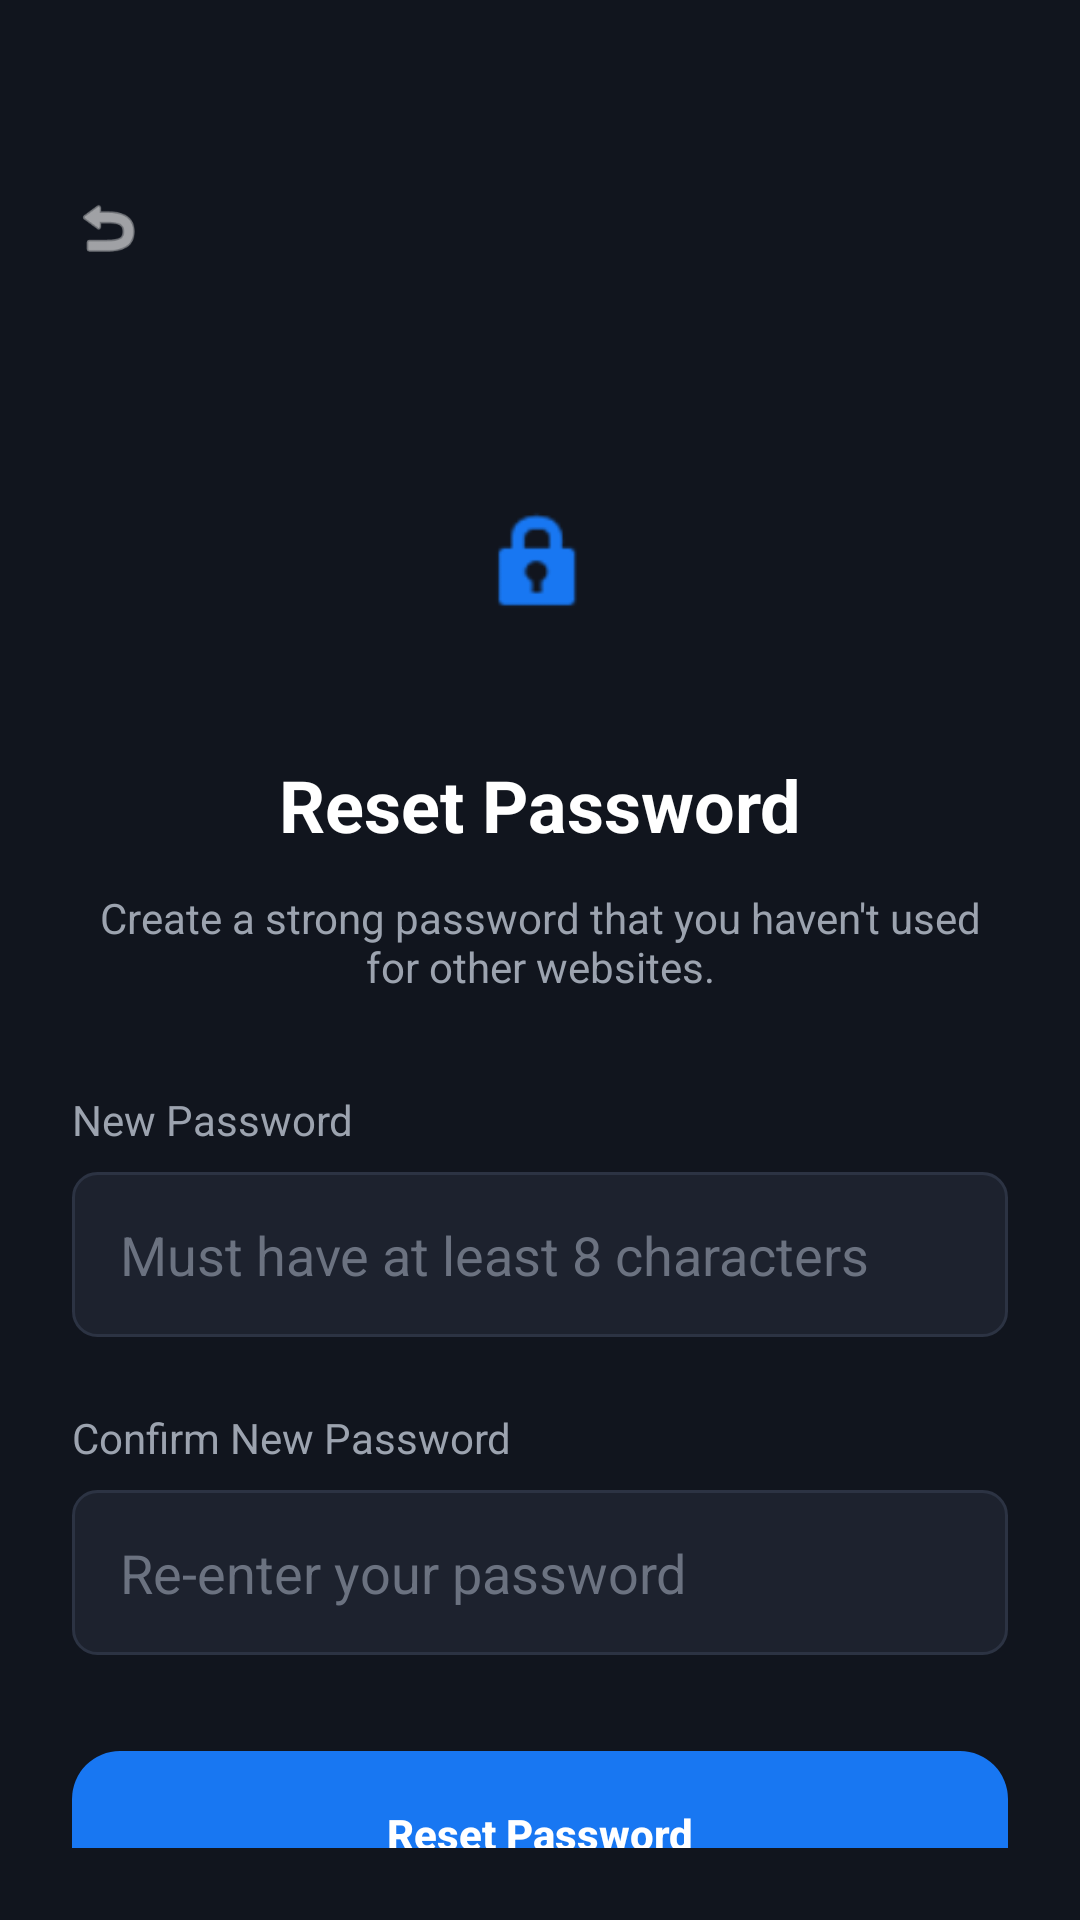

Screen size 1080*1920. Icon name, then its box in pixels as {"left": x1, "top": y1, "right": x2, "bottom": y2}:
lock idle: {"left": 498, "top": 514, "right": 577, "bottom": 606}
revert: {"left": 83, "top": 205, "right": 135, "bottom": 252}
